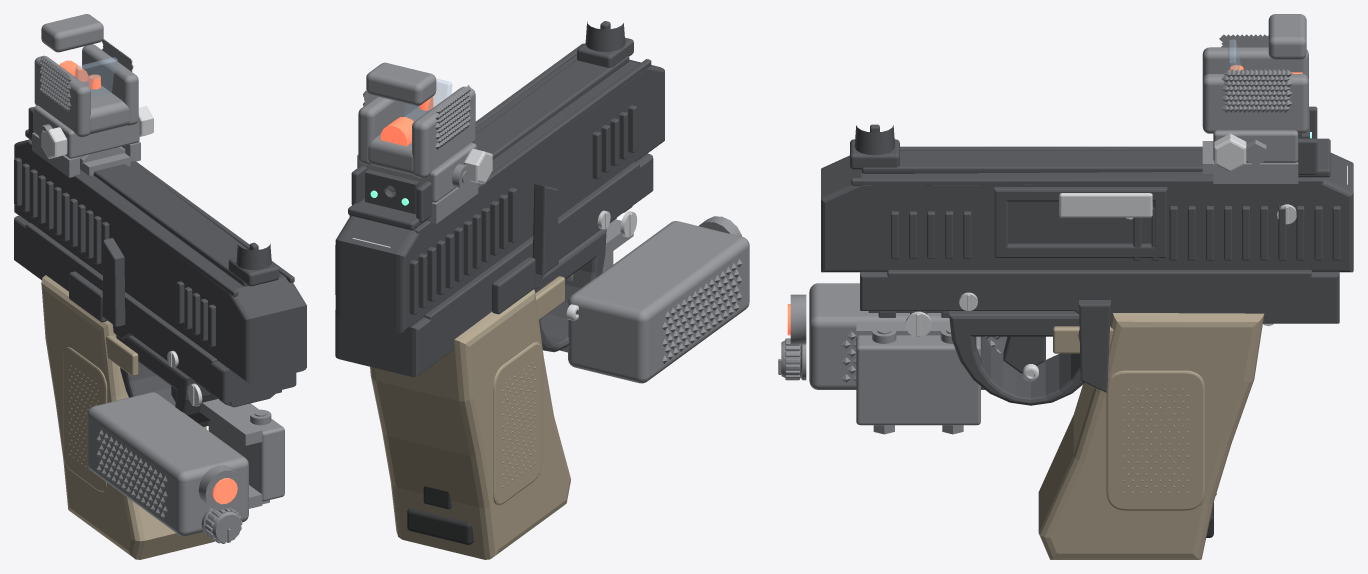
Rendered from glock19x.glb.
3 views of the same model, side by side, from view 1: azimuth 30°, elevation 25°; view 2: azimuth 150°, elevation 25°; view 3: azimuth 270°, elevation 25° (orthographic). The views are drawn at different scales.
Parts seen in each view (by area): view 1: compact-pistol-carry-loadout, slide/gunmetal, slide/alloyDark, slide/steelBright, slide/glass, slide/emberRed; view 2: compact-pistol-carry-loadout, slide/gunmetal, slide/alloyDark, magazine/polymerBlack, slide/emberRed, slide/steelBright, slide/glass; view 3: compact-pistol-carry-loadout, slide/gunmetal, slide/alloyDark, slide/steelBright.
Boxes of the visible parts, x1,y1,x2,y2 form: compact-pistol-carry-loadout: (14,215,296,559); slide/gunmetal: (14,107,306,383); slide/alloyDark: (32,14,140,177); slide/steelBright: (29,106,153,158); slide/glass: (75,57,117,97); slide/emberRed: (59,60,100,89); compact-pistol-carry-loadout: (335,153,749,559); slide/gunmetal: (335,21,664,333); slide/alloyDark: (357,62,478,223); magazine/polymerBlack: (407,486,473,544); slide/emberRed: (380,96,433,146); slide/steelBright: (352,148,492,247); slide/glass: (404,78,451,119); compact-pistol-carry-loadout: (778,269,1339,559); slide/gunmetal: (821,106,1353,272); slide/alloyDark: (1202,14,1308,183); slide/steelBright: (1059,133,1347,224).
Size of the model in its own units: 0.0657 by 0.1813 by 0.1842.
